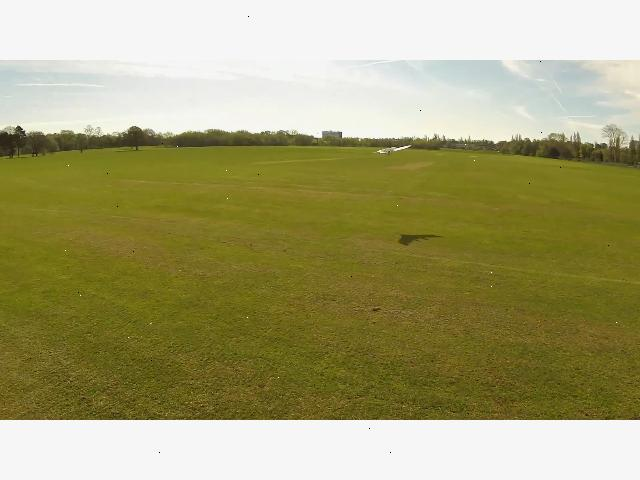Anti-Drone: (365, 134, 423, 169)
